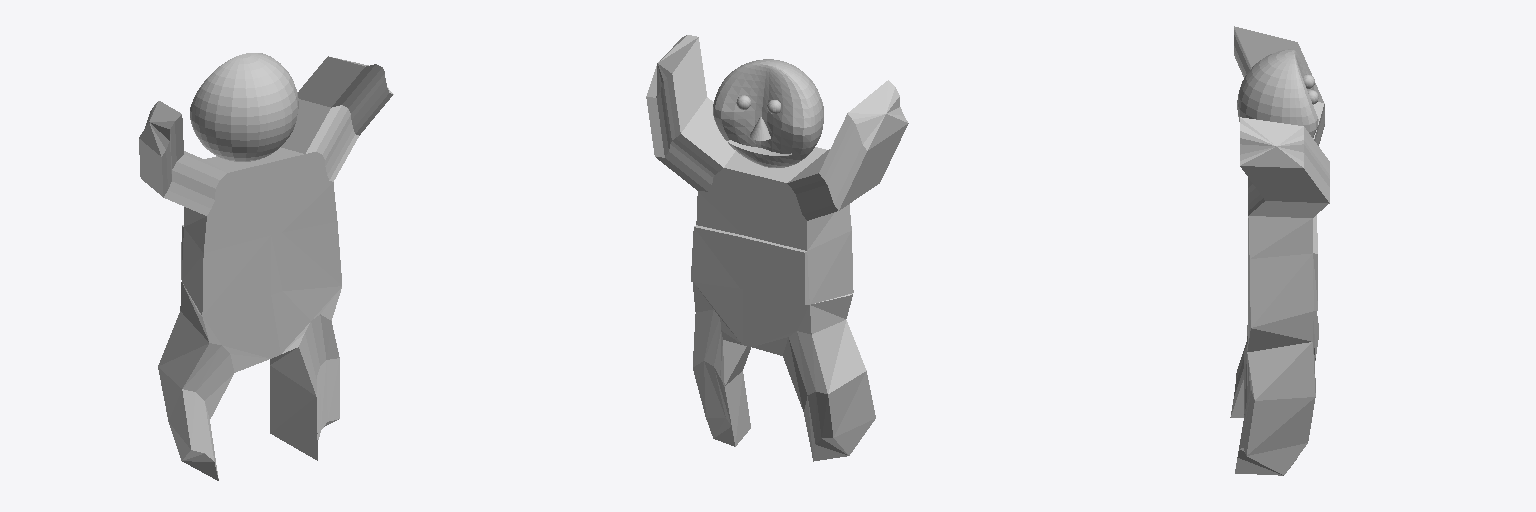
Rendered from manjump_000001.obj.
3 views of the same model, side by side, from view 1: azimuth 30°, elevation 25°; view 2: azimuth 150°, elevation 25°; view 3: azimuth 270°, elevation 25° (orthographic).
Visible parts, largest first — view 1: Cube; view 2: Cube; view 3: Cube.
Part boxes in pixels (x1,y1,x2,y2): Cube: (139,53,393,480); Cube: (646,35,908,461); Cube: (1230,26,1329,475).
Bounding box in the file's own units: 79.08 × 128 × 28.94.